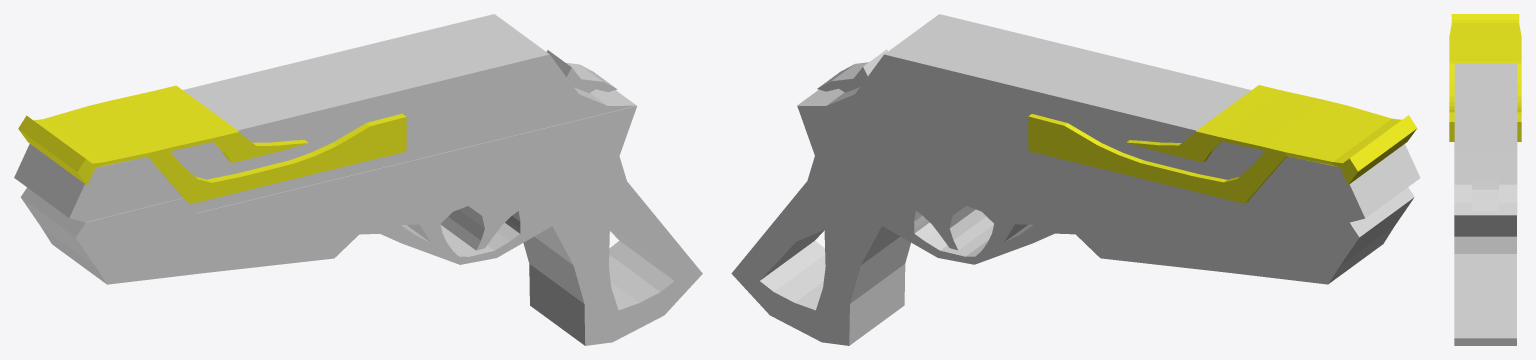
The model's file is pistolaLuz.fbx.
3 views of the same model, side by side, from view 1: azimuth 30°, elevation 25°; view 2: azimuth 150°, elevation 25°; view 3: azimuth 270°, elevation 25° (orthographic). The views are drawn at different scales.
Parts seen in each view (by area): view 1: Cube.001, Cube, Cube.004, Cube.003, Cube.002; view 2: Cube.001, Cube, Cube.004, Cube.003, Cube.002; view 3: Cube.001, Cube, Cube.003, Cube.002.
Part boxes in pixels (x1,y1,x2,y2): Cube.001: (14, 14, 636, 222); Cube: (359, 99, 702, 345); Cube.004: (20, 165, 393, 284); Cube.003: (18, 85, 406, 204); Cube.002: (547, 50, 617, 93); Cube.001: (797, 14, 1420, 222); Cube: (731, 100, 1075, 345); Cube.004: (1042, 167, 1414, 284); Cube.003: (1028, 85, 1417, 203); Cube.002: (817, 49, 887, 92); Cube.001: (1454, 63, 1517, 215); Cube: (1454, 148, 1516, 345); Cube.003: (1449, 14, 1521, 141); Cube.002: (1472, 179, 1498, 210).
Bounding box in the file's own units: 839 × 398 × 145.
